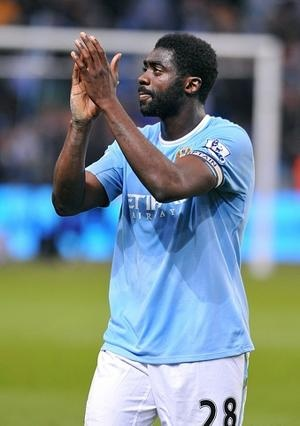person without safety: (109, 23, 260, 426)
